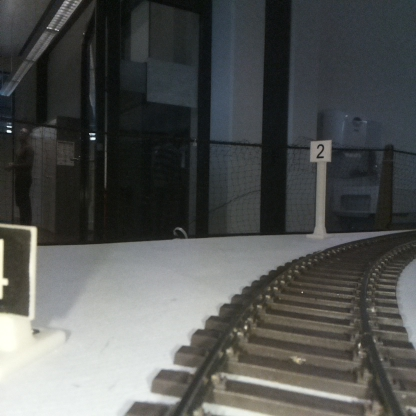white-info-2: (310, 139, 331, 237)
